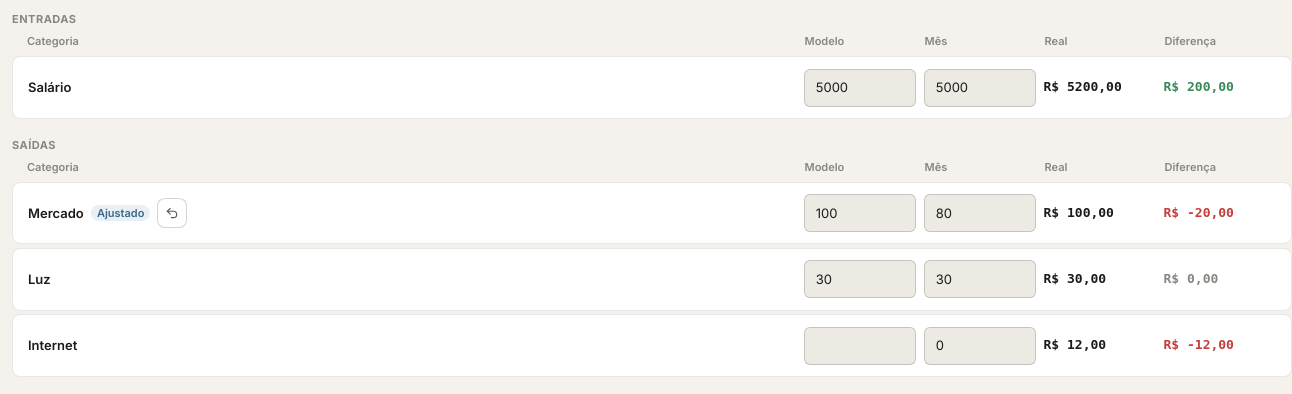
Scenario: FinanceBudgetTable › restores the previous value when the input is cleared
Clear the number field named "Valor de Mercado no mês": {"x": 980, "y": 213} left=924, top=194, right=1036, bottom=232
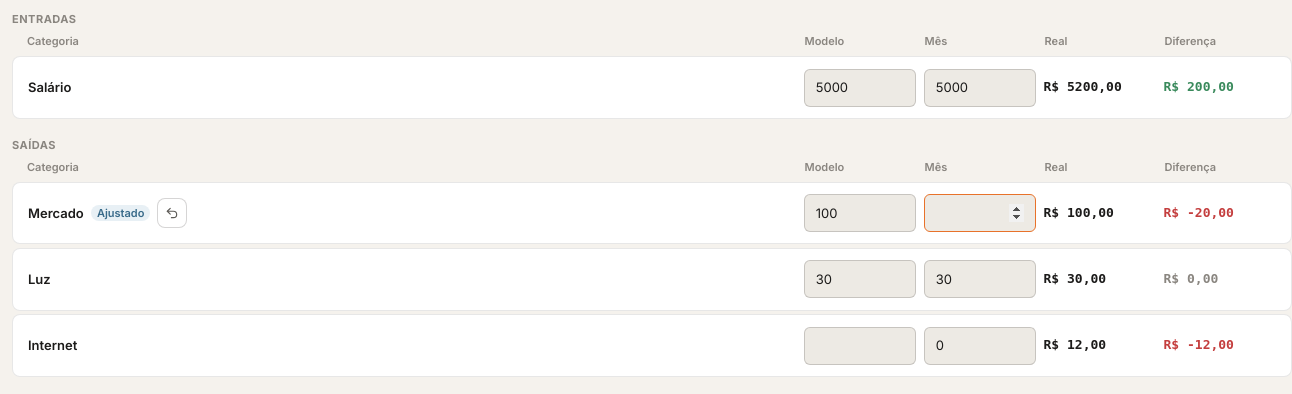
Press Tab
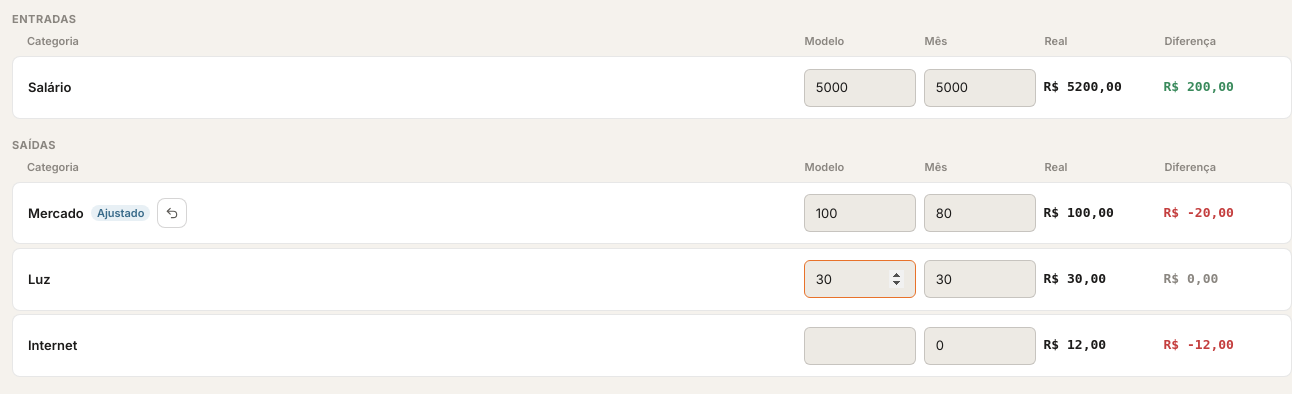
Result: the number field named "Valor de Mercado no mês" holds "80" at left=924, top=194, right=1036, bottom=232
